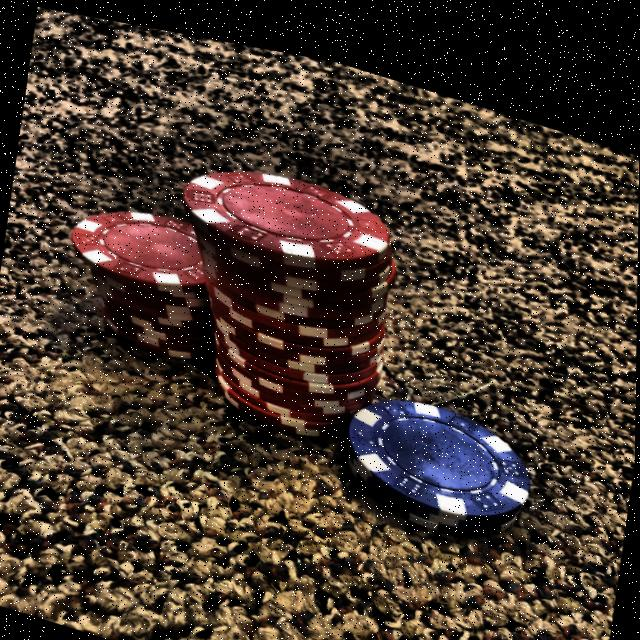Chip: (153, 132, 406, 451), (334, 362, 542, 541), (56, 178, 231, 368)
